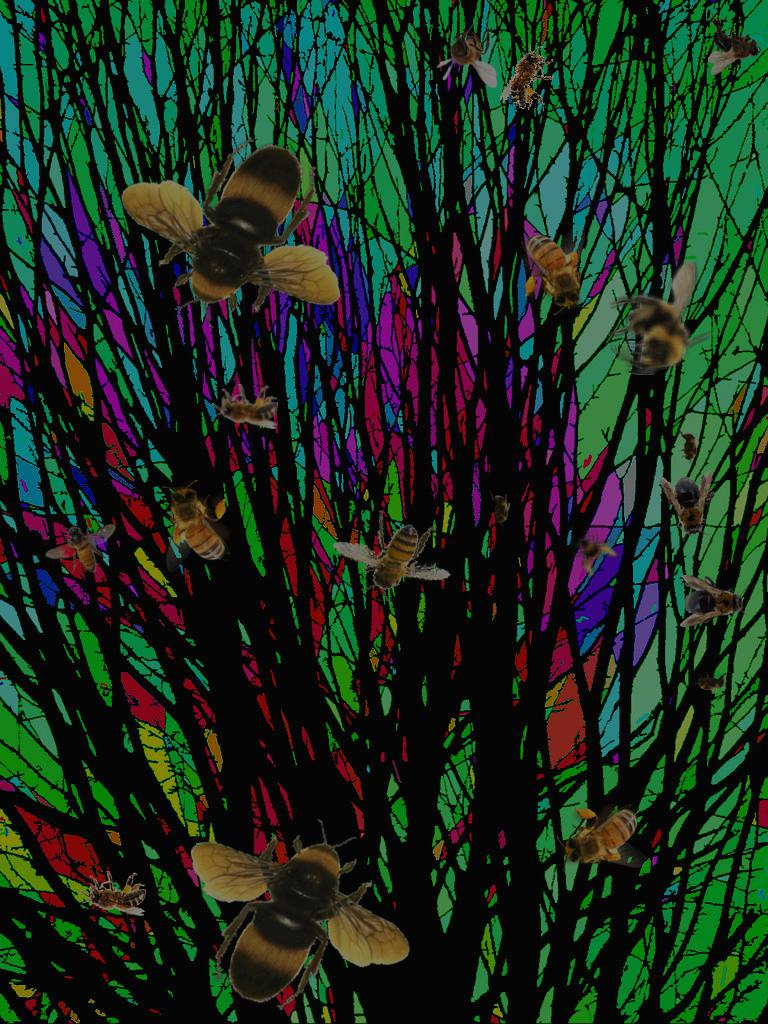Bee: (120, 137, 340, 328), (191, 819, 411, 1010), (327, 499, 454, 613), (608, 260, 715, 375), (162, 480, 230, 573), (521, 222, 589, 315), (557, 804, 650, 872), (498, 38, 562, 115), (659, 468, 723, 544), (436, 18, 497, 88), (561, 518, 625, 582), (45, 523, 116, 573), (680, 575, 748, 627), (708, 13, 761, 75), (212, 384, 278, 429), (80, 871, 146, 916), (678, 427, 700, 467), (691, 671, 731, 693), (489, 490, 511, 530)
